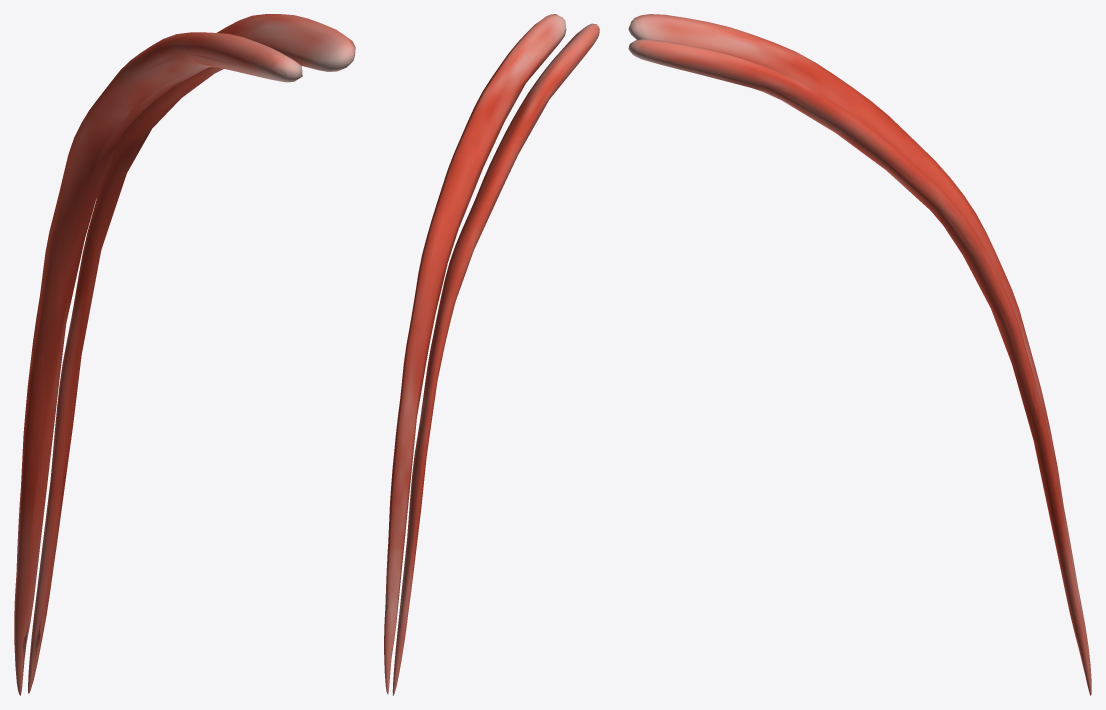
File: sacrococcygeus ventralis lateralis.fbx
3 renders of one model, left to right at view 1: azimuth 30°, elevation 25°; view 2: azimuth 150°, elevation 25°; view 3: azimuth 270°, elevation 25°, orthographic. The views are drawn at different scales.
Parts seen in each view (by area): view 1: sacrococcygeus ventralis lateralis low, sacrococcygeus ventralis lateralis; view 2: sacrococcygeus ventralis lateralis, sacrococcygeus ventralis lateralis low; view 3: sacrococcygeus ventralis lateralis, sacrococcygeus ventralis lateralis low.
Boxes of the visible parts, x1=… form: sacrococcygeus ventralis lateralis low: x1=17, y1=19, x2=355, y2=689; sacrococcygeus ventralis lateralis: x1=14, y1=14, x2=355, y2=695; sacrococcygeus ventralis lateralis: x1=384, y1=14, x2=599, y2=695; sacrococcygeus ventralis lateralis low: x1=384, y1=30, x2=582, y2=682; sacrococcygeus ventralis lateralis: x1=628, y1=14, x2=1091, y2=695; sacrococcygeus ventralis lateralis low: x1=629, y1=19, x2=1087, y2=672.
Size of the model in its own units: 5.17 by 44.52 by 28.06.
1 material, 1 textured.
